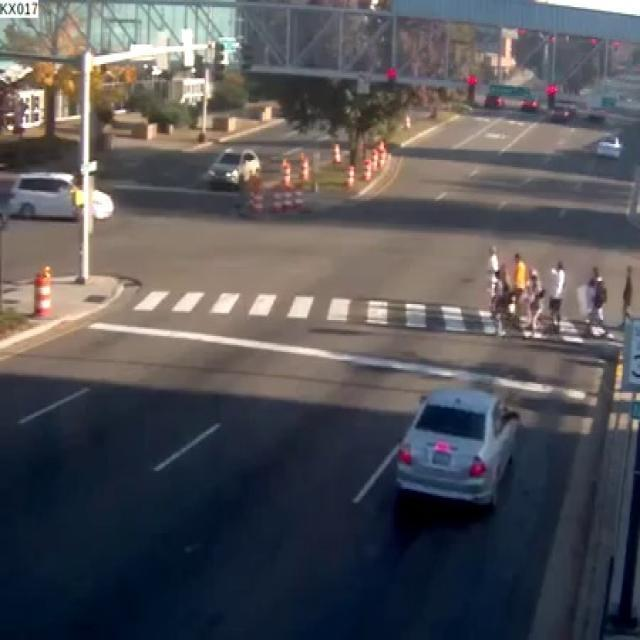car: (396, 389, 517, 502), (8, 171, 74, 214), (204, 146, 258, 187), (596, 134, 623, 157), (90, 189, 112, 216)
red_light: (544, 81, 557, 108), (466, 73, 476, 103), (383, 64, 396, 83)
stop_line: (88, 320, 587, 400)
